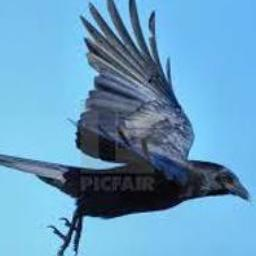Crow: (0, 0, 252, 256)
